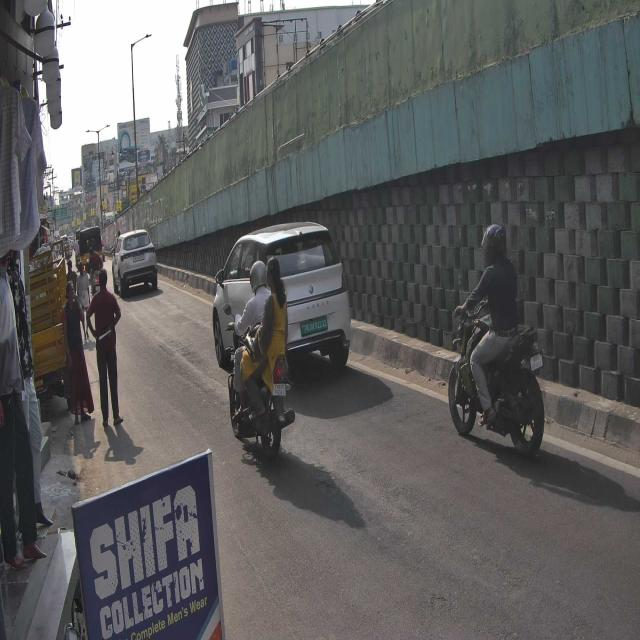double_rider: (225, 256, 298, 463)
single_rider: (450, 222, 550, 472)
